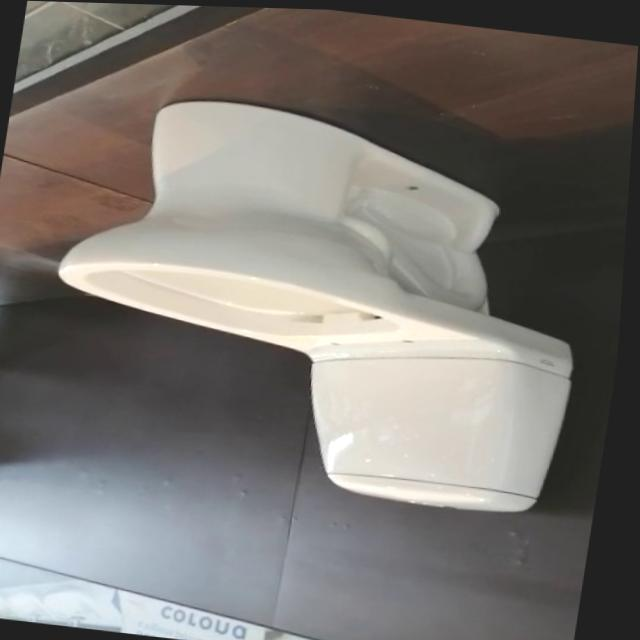toilet: (30, 83, 612, 519)
